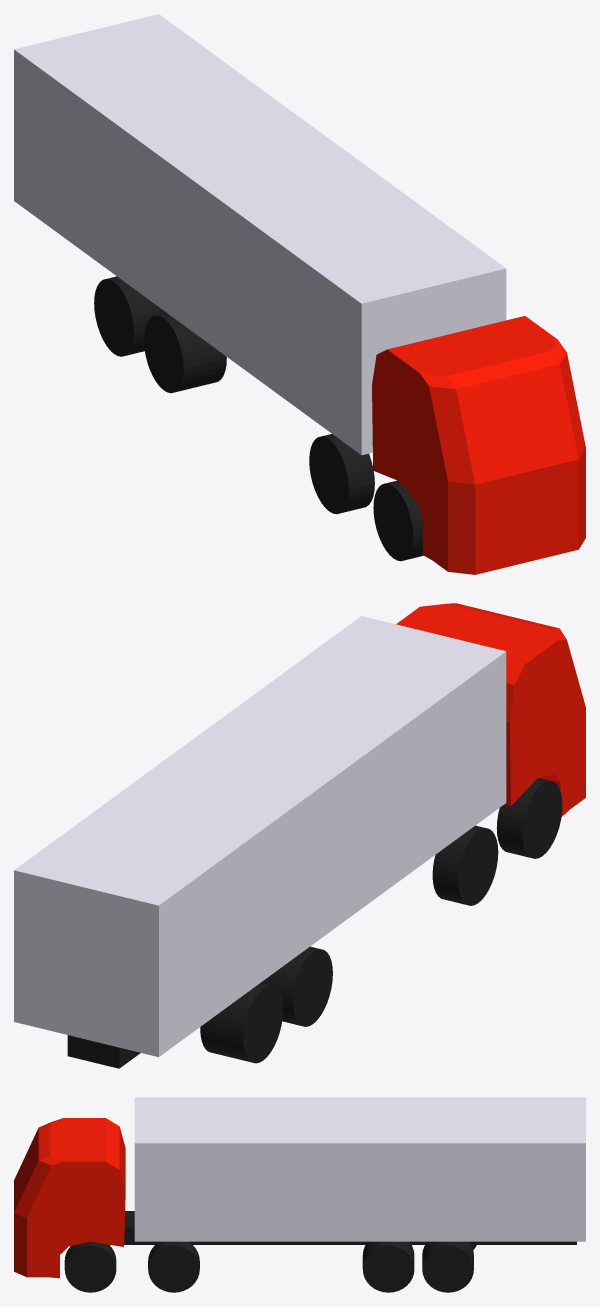
The model's file is truck.dae.
3 renders of one model, top to bottom at view 1: azimuth 30°, elevation 25°; view 2: azimuth 150°, elevation 25°; view 3: azimuth 270°, elevation 25°, orthographic. The views are drawn at different scales.
Parts seen in each view (by area): view 1: bottom, head, wheels; view 2: bottom, head, wheels, box; view 3: bottom, head, wheels, box.
Part boxes in pixels (x1=…): bottom: x1=14, y1=14, x2=506, y2=455; head: x1=372, y1=316, x2=585, y2=574; wheels: x1=94, y1=276, x2=423, y2=561; bottom: x1=14, y1=616, x2=506, y2=1057; head: x1=396, y1=603, x2=585, y2=816; wheels: x1=200, y1=778, x2=562, y2=1063; box: x1=67, y1=1035, x2=140, y2=1068; bottom: x1=134, y1=1097, x2=585, y2=1241; head: x1=14, y1=1118, x2=125, y2=1278; wheels: x1=64, y1=1241, x2=476, y2=1292; box: x1=124, y1=1211, x2=576, y2=1244.
Size of the model in its own units: 1.73 by 8.85 by 2.54.
